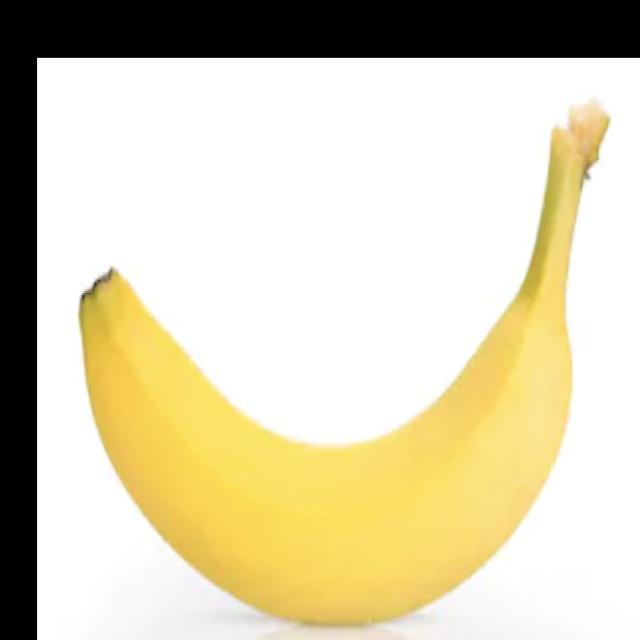Ripe: (67, 86, 618, 625)
